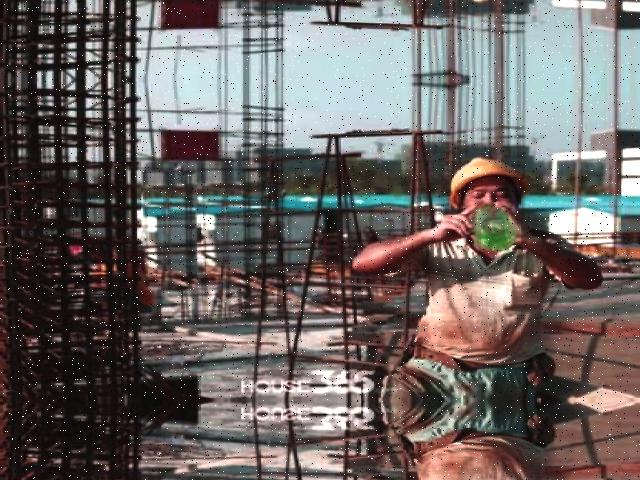Helmet: (438, 152, 530, 214)
